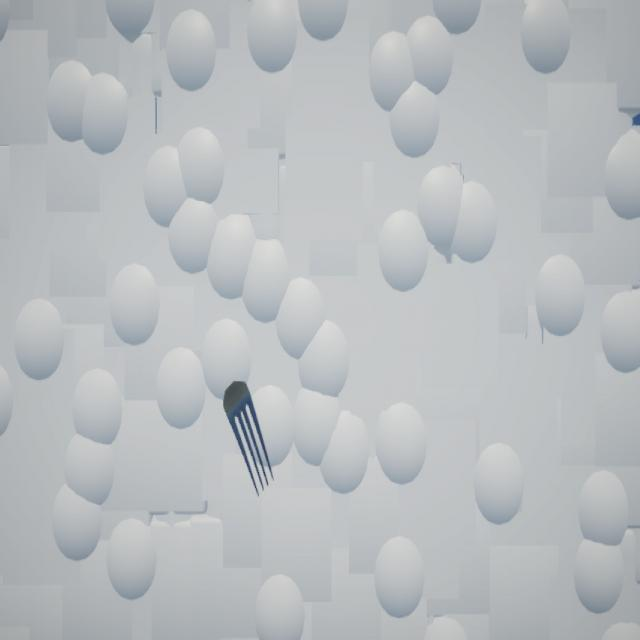top_folk: (224, 383, 275, 498)
